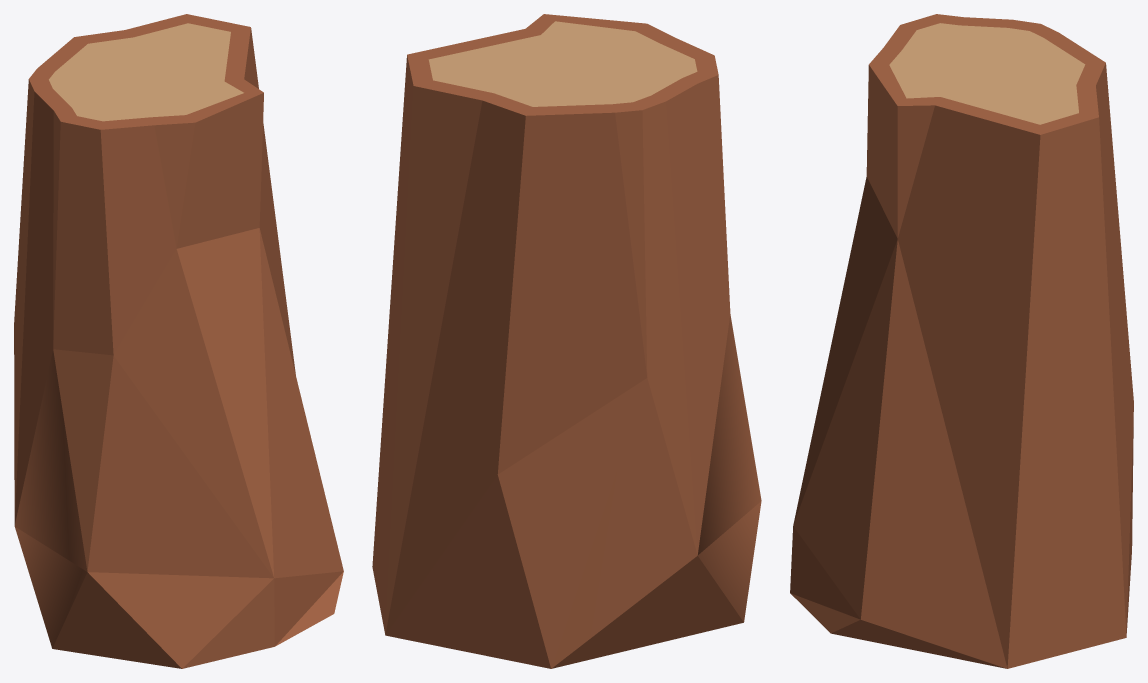
File: CuttedTree1.fbx
3 views of the same model, side by side, from view 1: azimuth 30°, elevation 25°; view 2: azimuth 150°, elevation 25°; view 3: azimuth 270°, elevation 25° (orthographic). The views are drawn at different scales.
Parts seen in each view (by area): view 1: Tree1.001; view 2: Tree1.001; view 3: Tree1.001.
Boxes of the visible parts, x1,y1,x2,y2 form: Tree1.001: (14,14,343,668); Tree1.001: (372,14,761,668); Tree1.001: (790,14,1133,668).
Bounding box in the file's own units: 144 × 233 × 139.
